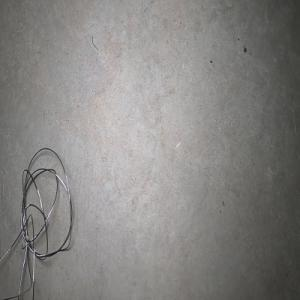Wire: (0, 147, 72, 300)
